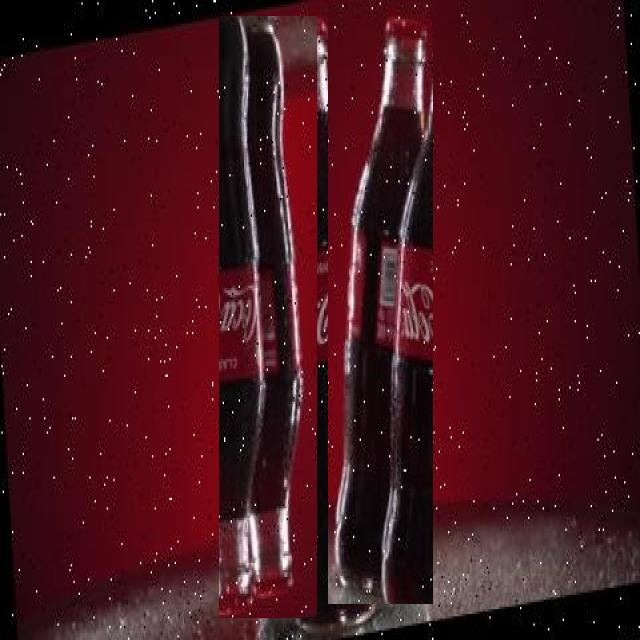coca-cola: (255, 12, 372, 640), (328, 2, 433, 604), (219, 16, 317, 618)
